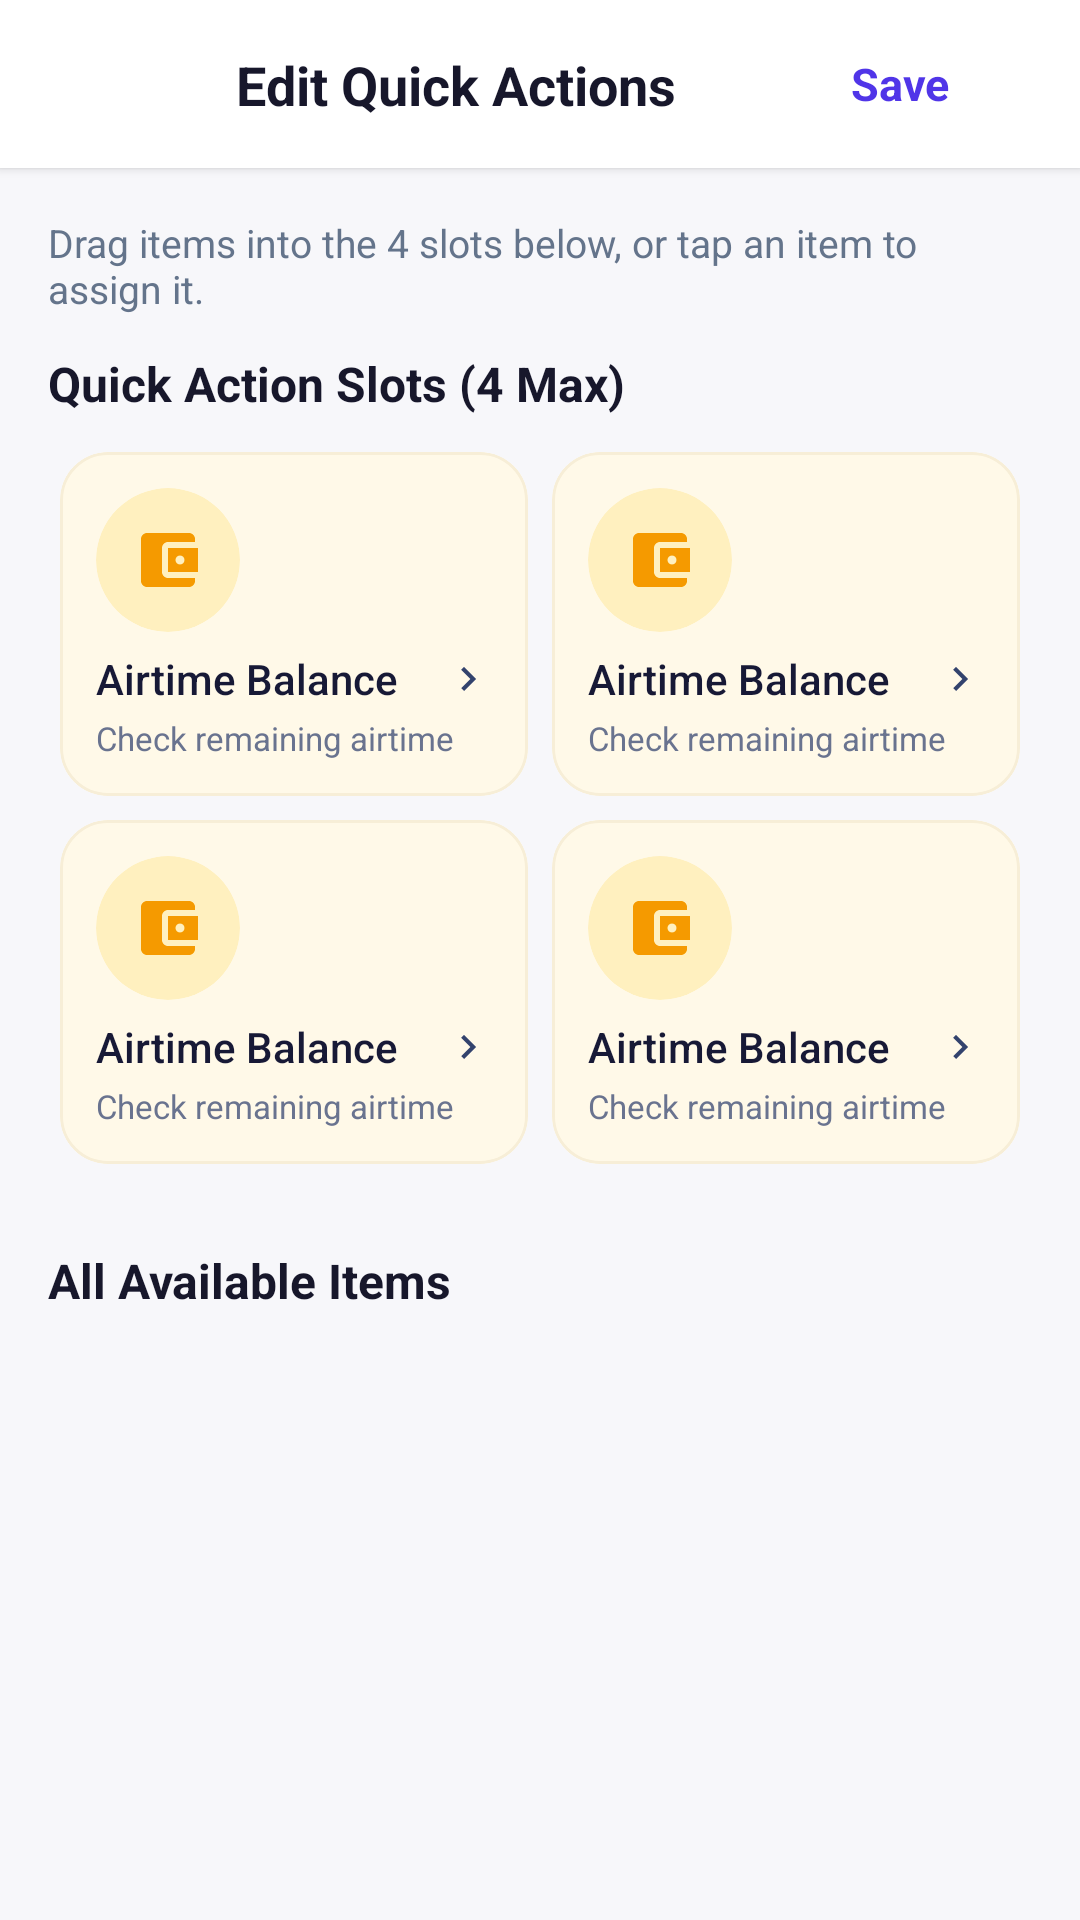

Point at icon controls on the screen. Image size 1080px×1920px, points as (x=x, y=y).
account balance wallet: (x=168, y=560), (x=660, y=560), (x=168, y=928), (x=660, y=928)
chevron right: (x=468, y=679), (x=960, y=679), (x=468, y=1047), (x=960, y=1047)
